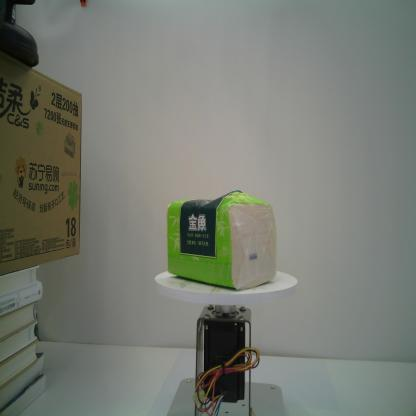Tissue: (167, 188, 276, 290)
